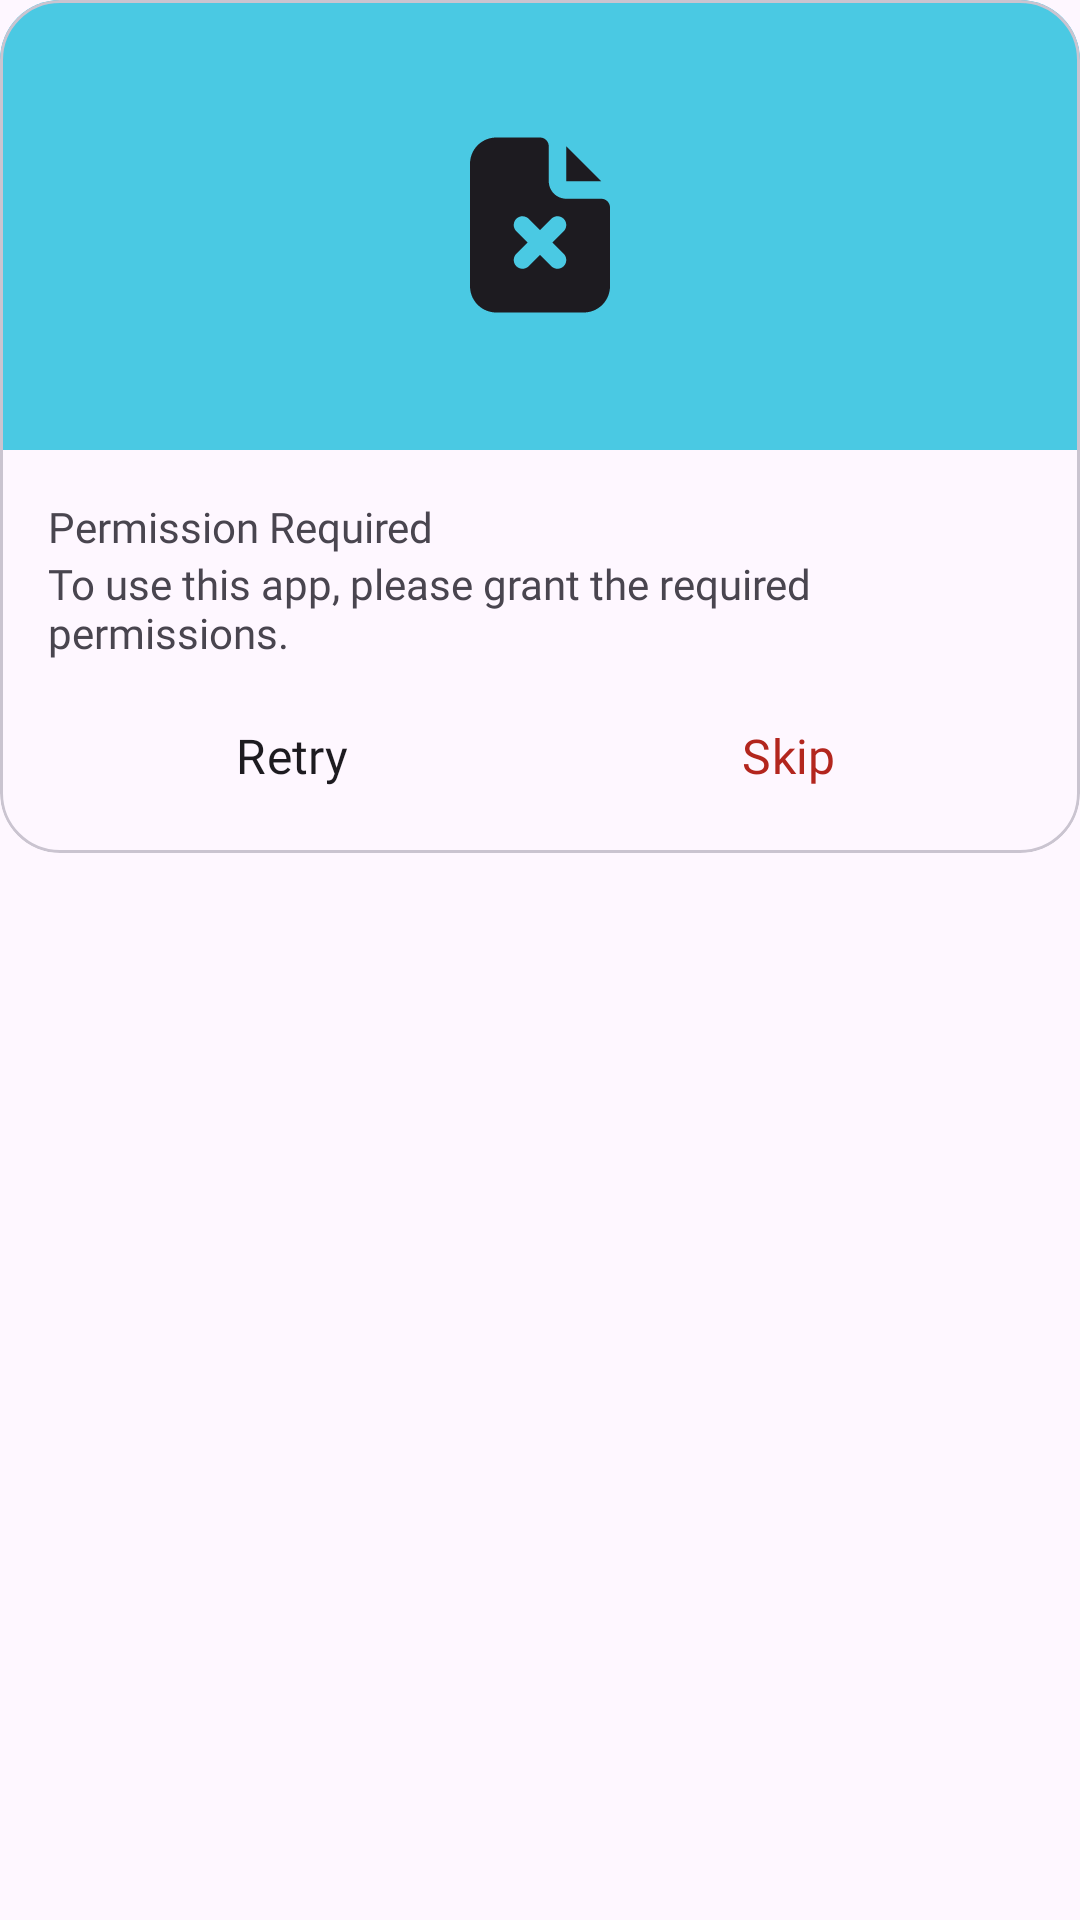

Named icons in this screenshot (1080w x 1920h) and their centers, [x,y]:
Permission Icon: [540,225]
